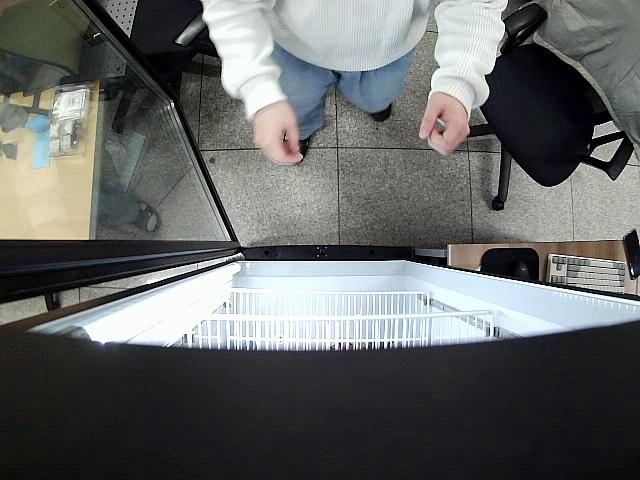00_hand: (253, 99, 304, 166), (418, 94, 471, 157)
